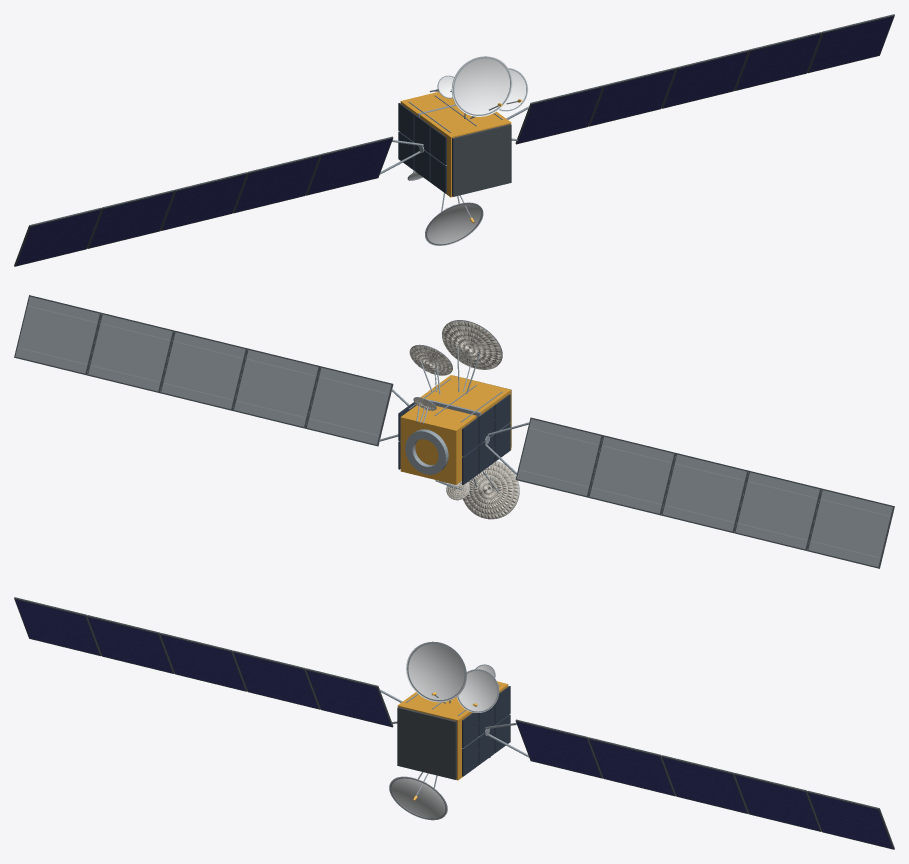
File: astra-3c.glb
The picture shows the model from 3 angles, top to bottom: view 1: azimuth 30°, elevation 25°; view 2: azimuth 150°, elevation 25°; view 3: azimuth 330°, elevation 25°; orthographic projection.
Visible parts, largest first — view 1: Solar cell panel (×10), Earth-facing deck, Reflector 2 face, Payload module, Reflector 1 face, Service module, Reflector 3 face; view 2: Rear array substrate (×10), Solar panel frame (×9), Service module, Reflector 1 insulated back, Reflector 2 insulated back, Payload module, Launch adapter ring, Reflector 3 insulated back; view 3: Solar cell panel (×10), Earth-facing deck, Reflector 2 face, Reflector 1 face, Payload module, Reflector 3 face.
Part boxes in pixels (bbox=[...]): Solar cell panel (×10): bbox=[16, 16, 893, 265]; Earth-facing deck: bbox=[452, 124, 511, 196]; Reflector 2 face: bbox=[452, 56, 512, 116]; Payload module: bbox=[420, 105, 511, 197]; Reflector 1 face: bbox=[425, 203, 483, 245]; Service module: bbox=[400, 91, 455, 115]; Reflector 3 face: bbox=[499, 68, 528, 111]; Rear array substrate (×10): bbox=[15, 296, 892, 566]; Solar panel frame (×9): bbox=[14, 295, 894, 568]; Service module: bbox=[400, 405, 476, 484]; Reflector 1 insulated back: bbox=[463, 461, 519, 519]; Reflector 2 insulated back: bbox=[442, 320, 502, 369]; Payload module: bbox=[421, 375, 511, 449]; Launch adapter ring: bbox=[405, 429, 448, 474]; Reflector 3 insulated back: bbox=[409, 345, 452, 375]; Solar cell panel (×10): bbox=[15, 599, 892, 848]; Earth-facing deck: bbox=[397, 707, 456, 779]; Reflector 2 face: bbox=[406, 642, 466, 702]; Reflector 1 face: bbox=[389, 777, 447, 820]; Payload module: bbox=[397, 692, 472, 780]; Reflector 3 face: bbox=[457, 669, 498, 712].
Bounding box in the file's own units: 39.97 × 8.25 × 5.09.
Materials: 10 (1 with a texture image).
